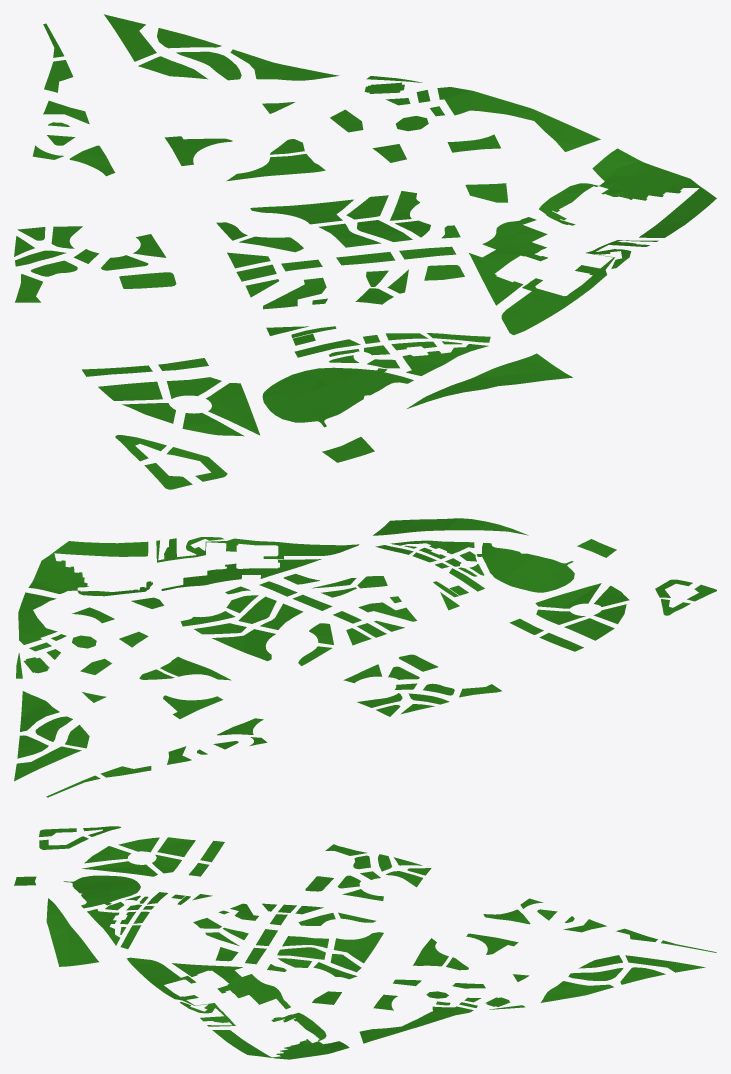
The model's file is albacete_map_5.osm_forest.dae.
3 renders of one model, top to bottom at view 1: azimuth 30°, elevation 25°; view 2: azimuth 150°, elevation 25°; view 3: azimuth 270°, elevation 25°, orthographic. The views are drawn at different scales.
Visible parts, largest first — view 1: map_5.osm_forest; view 2: map_5.osm_forest; view 3: map_5.osm_forest.
Boxes of the visible parts, box(x1,y1,x2,y2) form: map_5.osm_forest: box(14, 14, 716, 489); map_5.osm_forest: box(14, 518, 716, 797); map_5.osm_forest: box(14, 826, 716, 1059).
Bounding box in the file's own units: 392 × 503 × 15.29.
